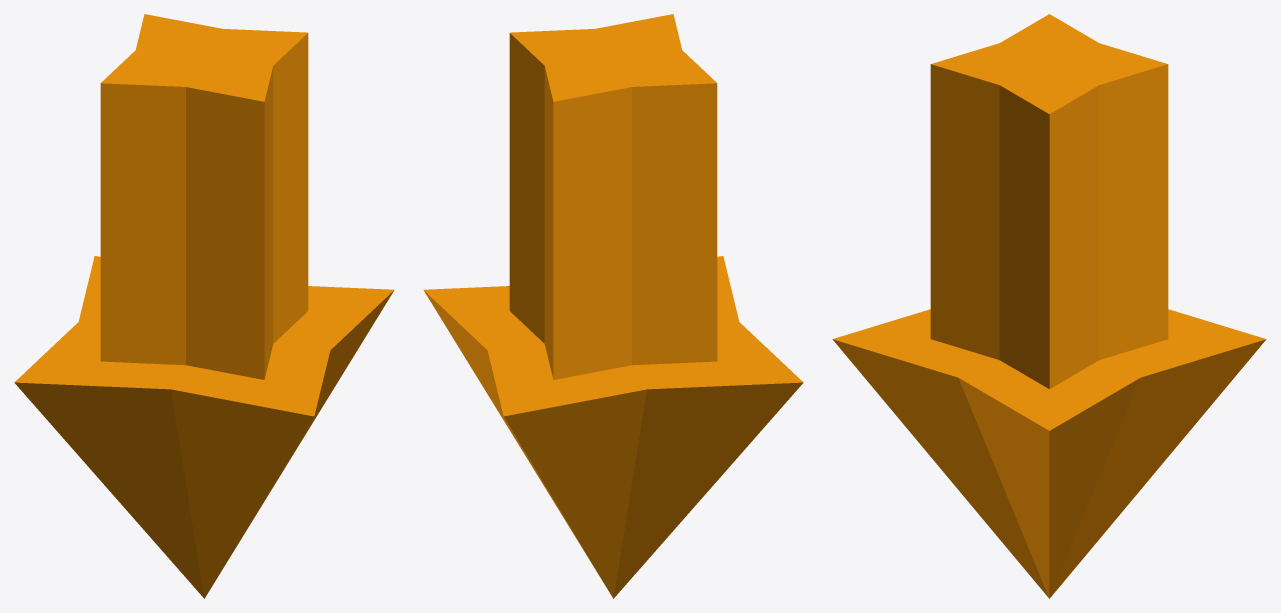
Rendered from Selection_Arrow.gltf.
3 views of the same model, side by side, from view 1: azimuth 30°, elevation 25°; view 2: azimuth 150°, elevation 25°; view 3: azimuth 270°, elevation 25° (orthographic).
Visible parts, largest first — view 1: arrow; view 2: arrow; view 3: arrow.
Boxes of the visible parts, left/top/right/bottom form: arrow: left=14, top=14, right=394, bottom=598; arrow: left=423, top=14, right=803, bottom=598; arrow: left=832, top=14, right=1266, bottom=598.
Size of the model in its own units: 6.17 by 8.38 by 6.17.
